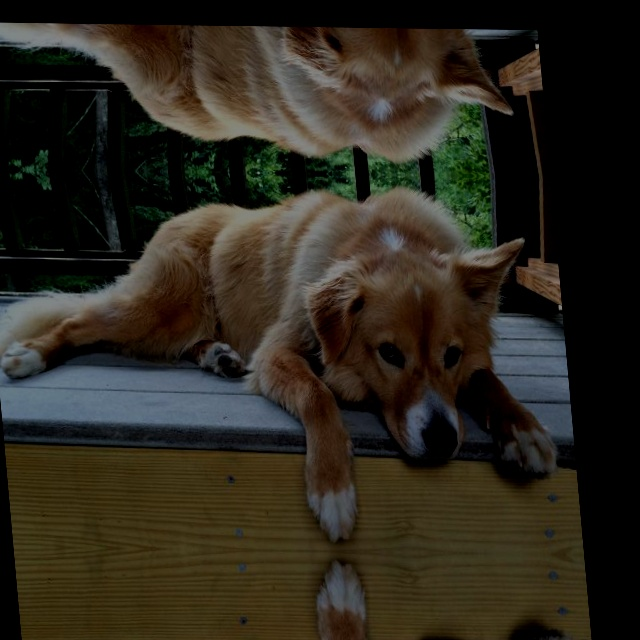dog: (6, 176, 567, 517), (0, 22, 537, 171), (43, 585, 584, 640)
